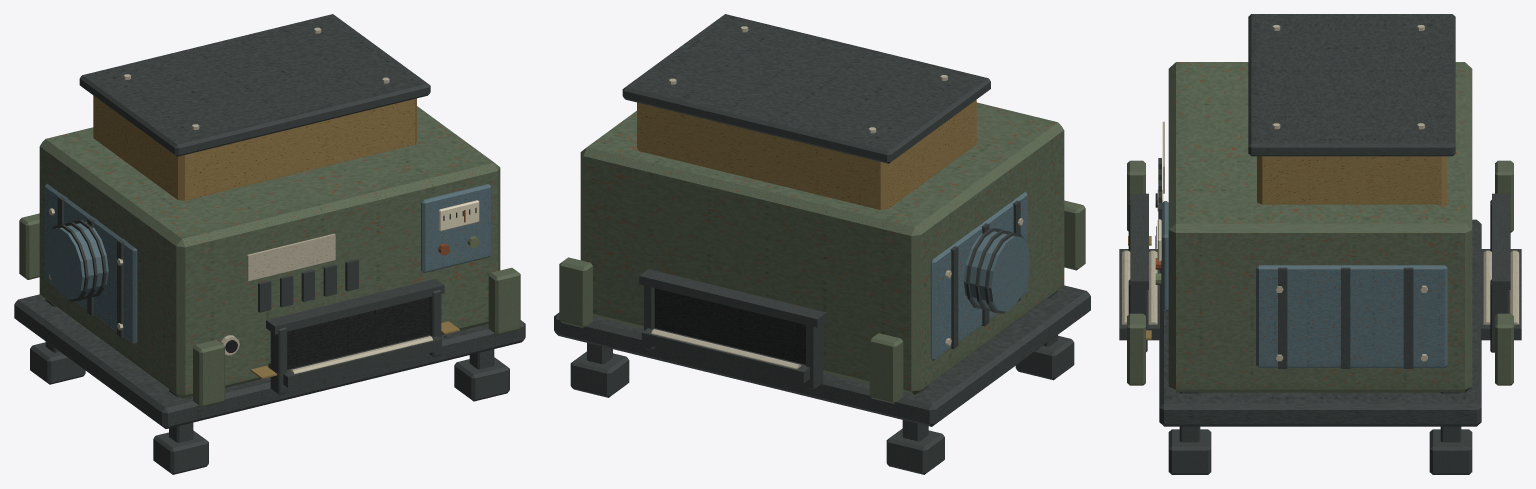
File: CompactTier2Scrapper.fbx
3 views of the same model, side by side, from view 1: azimuth 30°, elevation 25°; view 2: azimuth 150°, elevation 25°; view 3: azimuth 270°, elevation 25° (orthographic). The views are drawn at different scales.
Parts seen in each view (by area): view 1: CompactTier2Scrapper; view 2: CompactTier2Scrapper; view 3: CompactTier2Scrapper.
Part boxes in pixels (bbox=[...]): CompactTier2Scrapper: bbox=[14, 14, 525, 474]; CompactTier2Scrapper: bbox=[554, 14, 1090, 474]; CompactTier2Scrapper: bbox=[1119, 14, 1521, 474].
Size of the model in its own units: 292 by 220 by 256.
1 material, 1 textured.
